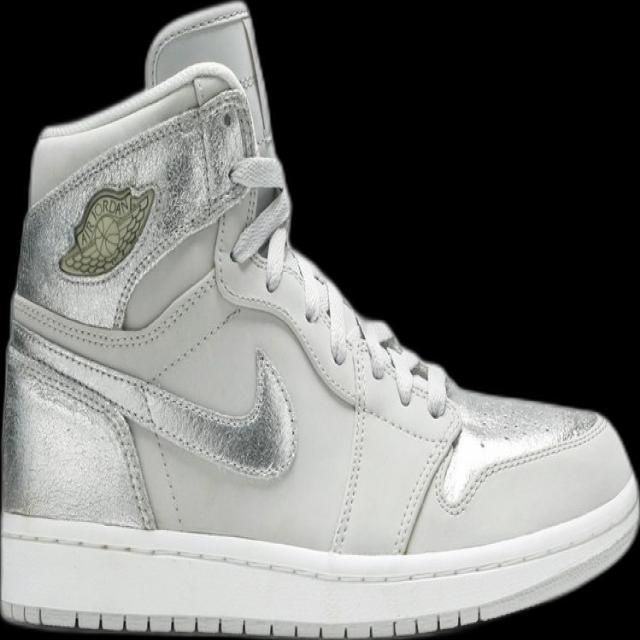J1_InsoleChar: (0, 0, 639, 639)
J1_ShoeLogo: (142, 0, 293, 290), (57, 183, 157, 279)
J1_StitchPattern: (12, 160, 461, 551), (227, 159, 451, 420), (1, 500, 638, 590), (8, 317, 298, 480), (326, 322, 459, 555), (7, 330, 159, 530), (281, 247, 450, 417), (433, 406, 608, 516), (0, 601, 488, 639), (327, 321, 372, 556), (389, 428, 461, 556)
